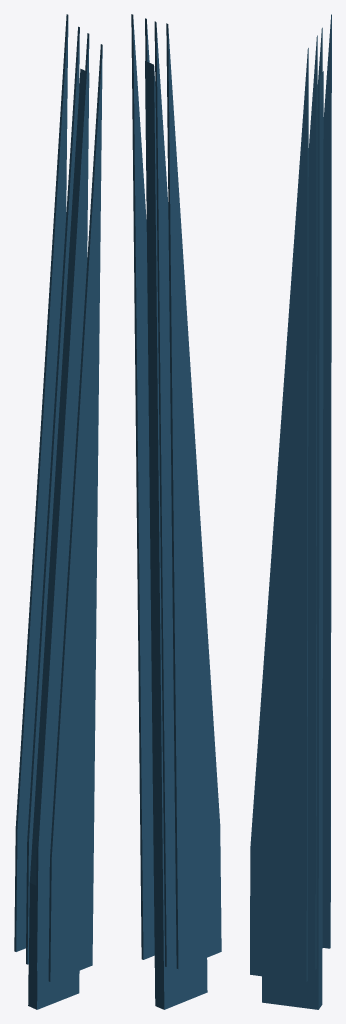
File: Stairs.fbx
3 views of the same model, side by side, from view 1: azimuth 30°, elevation 25°; view 2: azimuth 210°, elevation 25°; view 3: azimuth 330°, elevation 25° (orthographic). The views are drawn at different scales.
Parts seen in each view (by area): view 1: Stairs__5_, Stairs__2_, Stairs__4_, Stairs__3_, Stairs__1_; view 2: Stairs__4_, Stairs__3_, Stairs__5_, Stairs__1_; view 3: Stairs__5_, Stairs__2_, Stairs__3_, Stairs__4_.
Boxes of the visible parts, bbox=[...] form: Stairs__5_: bbox=[48, 44, 102, 981]; Stairs__2_: bbox=[35, 33, 89, 970]; Stairs__4_: bbox=[14, 14, 68, 951]; Stairs__3_: bbox=[28, 68, 89, 1009]; Stairs__1_: bbox=[26, 26, 79, 964]; Stairs__4_: bbox=[166, 23, 221, 969]; Stairs__3_: bbox=[145, 61, 207, 1009]; Stairs__5_: bbox=[131, 14, 154, 959]; Stairs__1_: bbox=[154, 21, 176, 966]; Stairs__5_: bbox=[250, 48, 308, 981]; Stairs__2_: bbox=[307, 35, 317, 969]; Stairs__3_: bbox=[262, 71, 323, 1009]; Stairs__4_: bbox=[322, 14, 331, 948].
Size of the model in its own units: 36.37 by 555 by 38.56.
